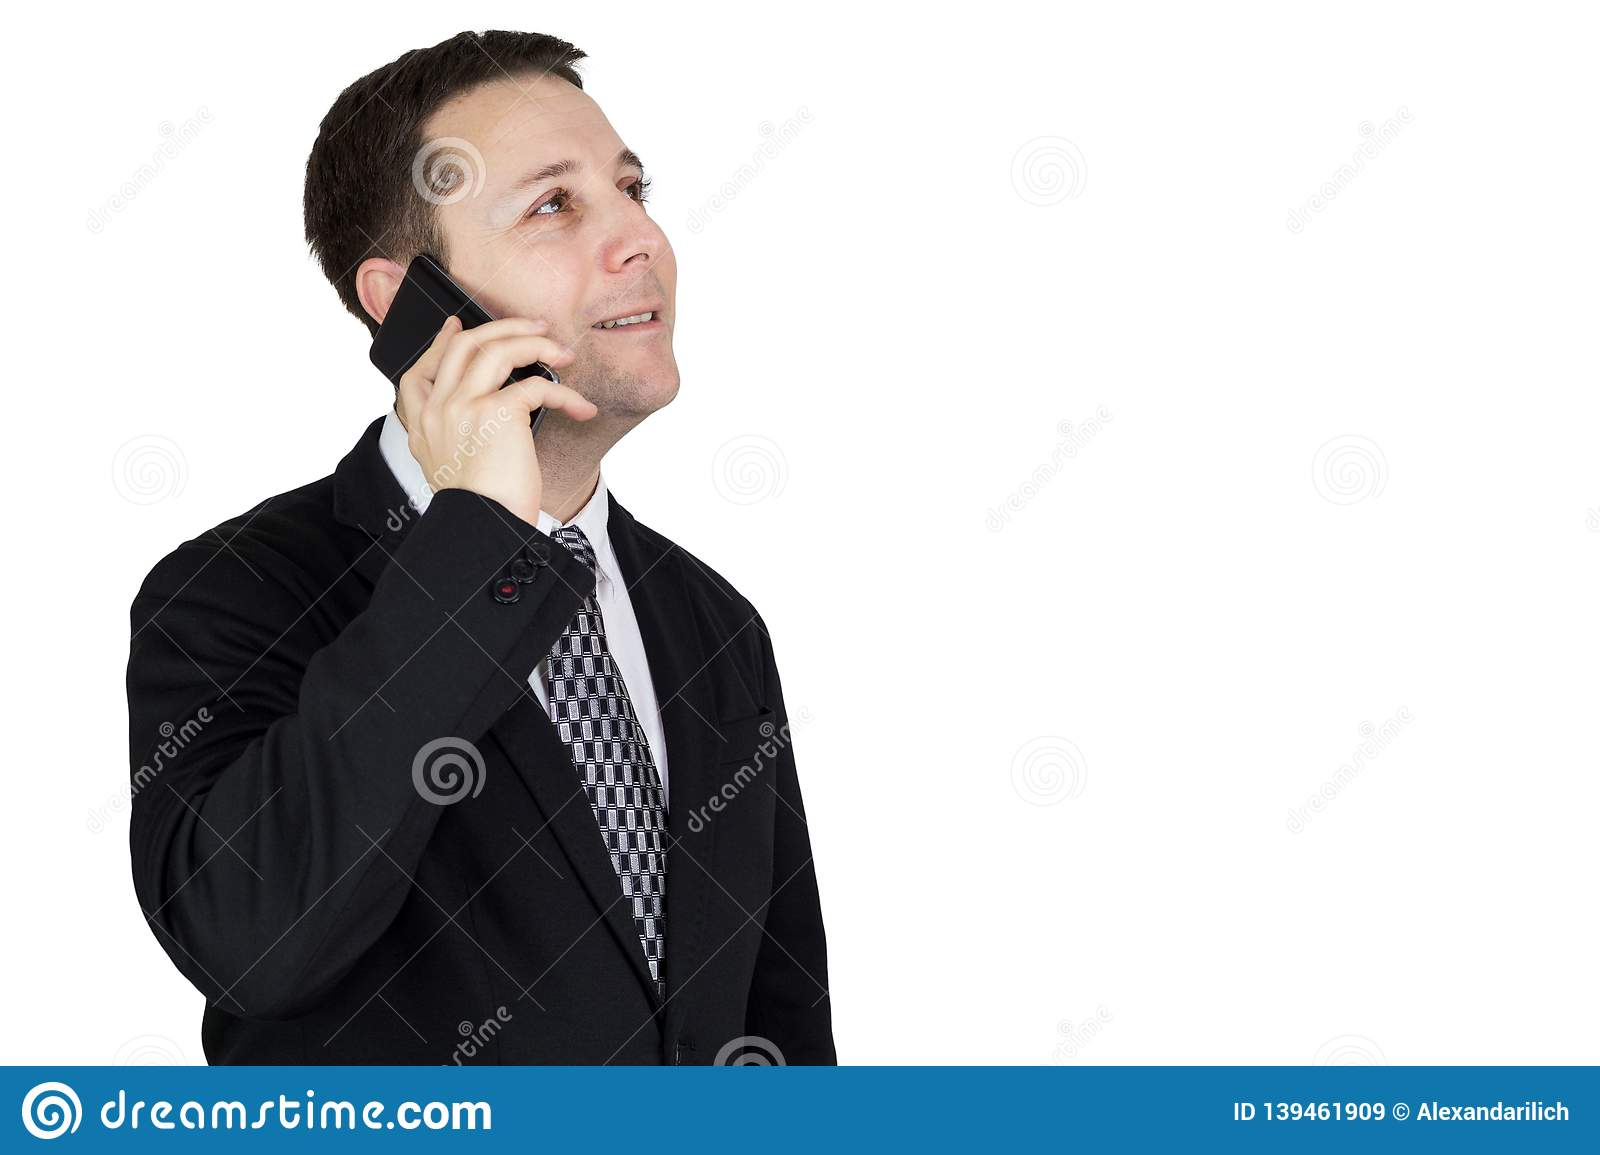phone: (368, 258, 557, 448)
talk: (366, 133, 686, 566)
